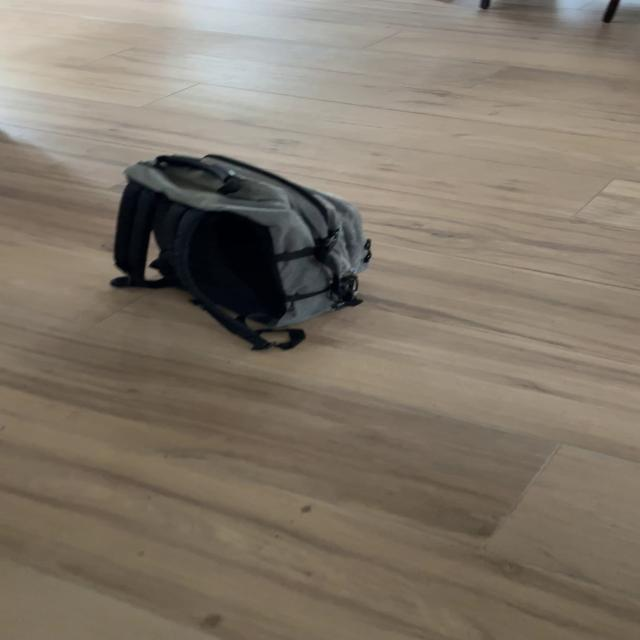backpack: (107, 143, 392, 357)
